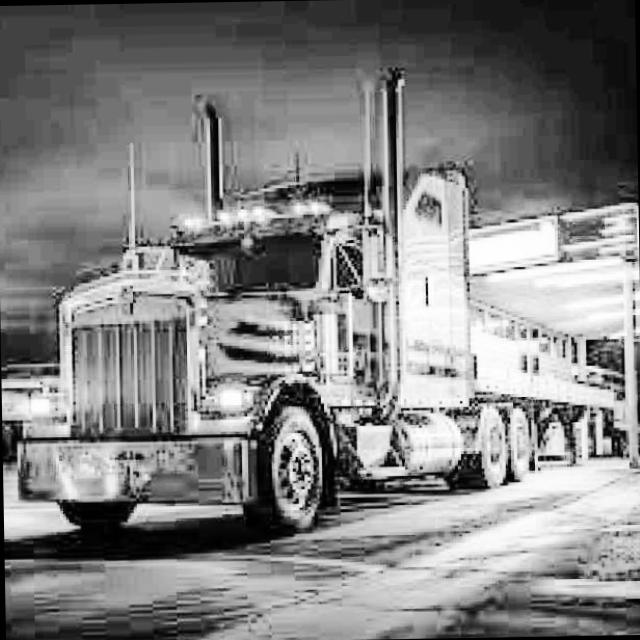Truck: (7, 64, 630, 538)
